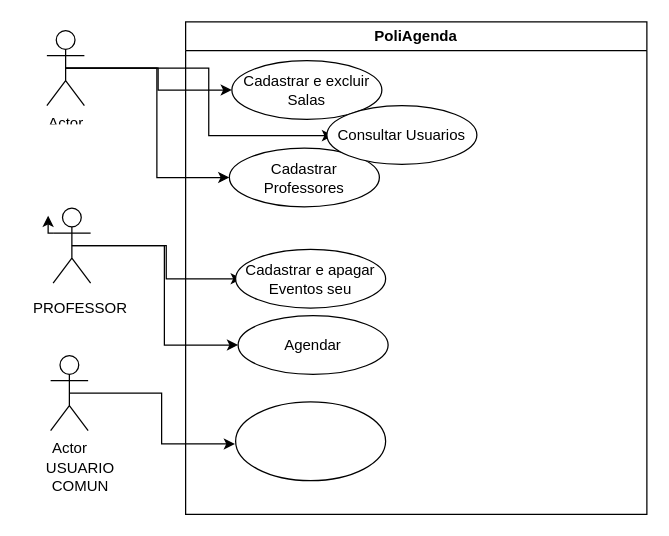
Some shapes in this 669 by 536 pixel diagram are drawn without their labels. Here are the shapes that lost their labels. From the top down, the box of each, then its label:
(30, 124, 105, 161): ADMIN
(234, 401, 386, 481): Consultar Agendamentos, eventos e salas
